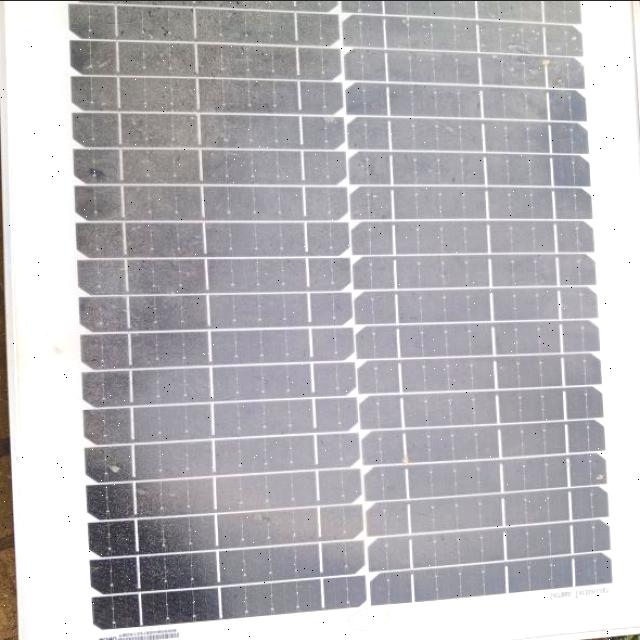Anomaly Solar Panel: (44, 0, 638, 622)
Surface Contaminant: (59, 0, 625, 612)
